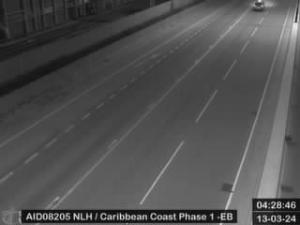vehicle: (253, 1, 265, 12)
